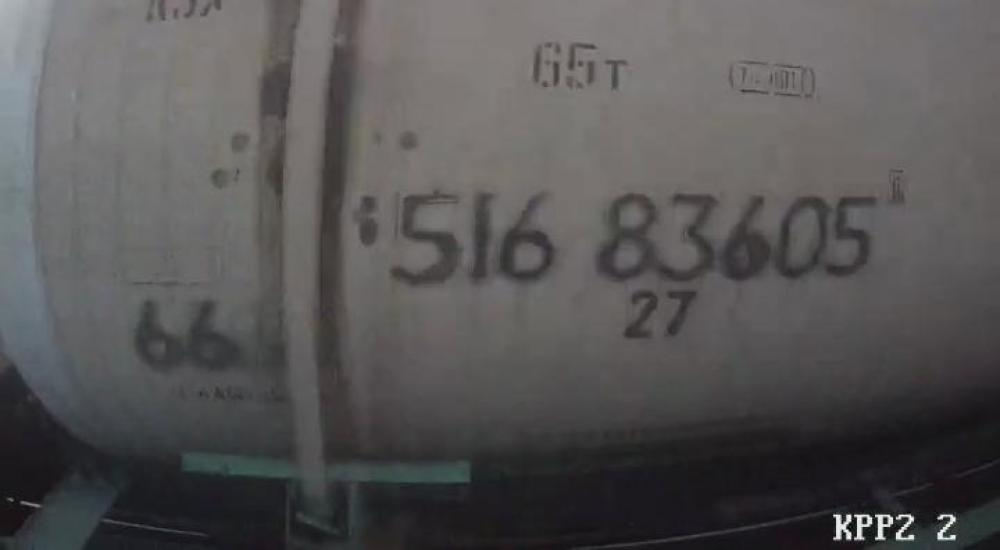Wagon-number: (385, 183, 882, 289)
